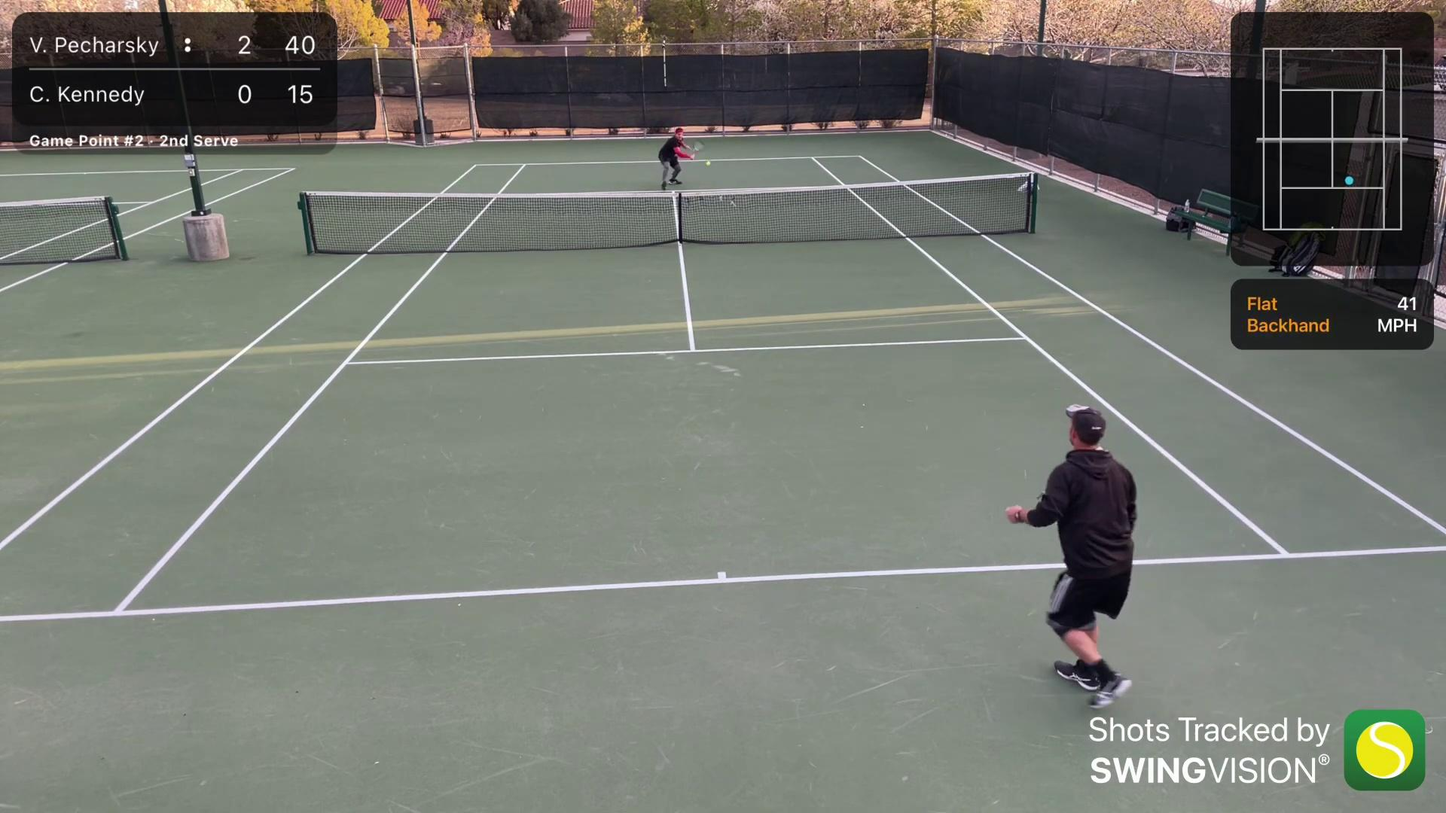ball: (705, 160, 712, 166)
